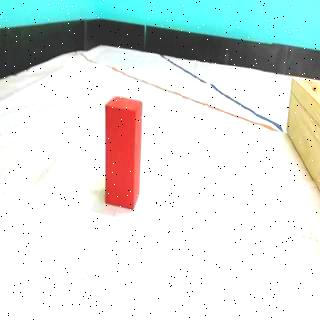redbox: (104, 94, 142, 210)
